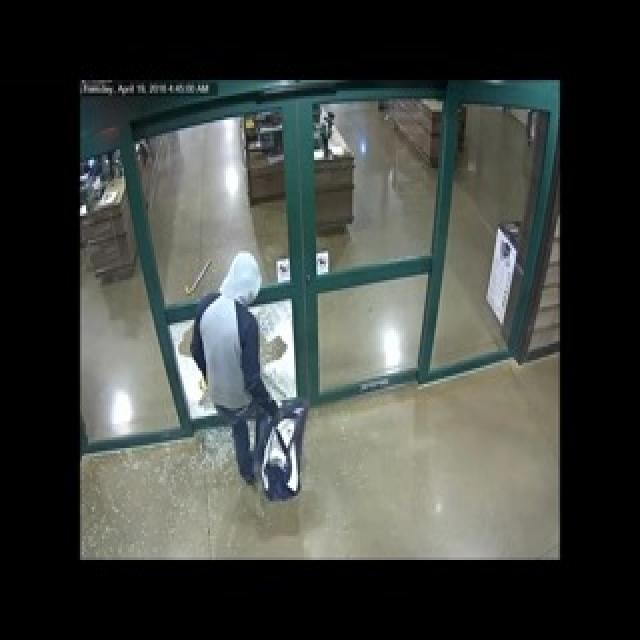burglary: (181, 264, 303, 465)
